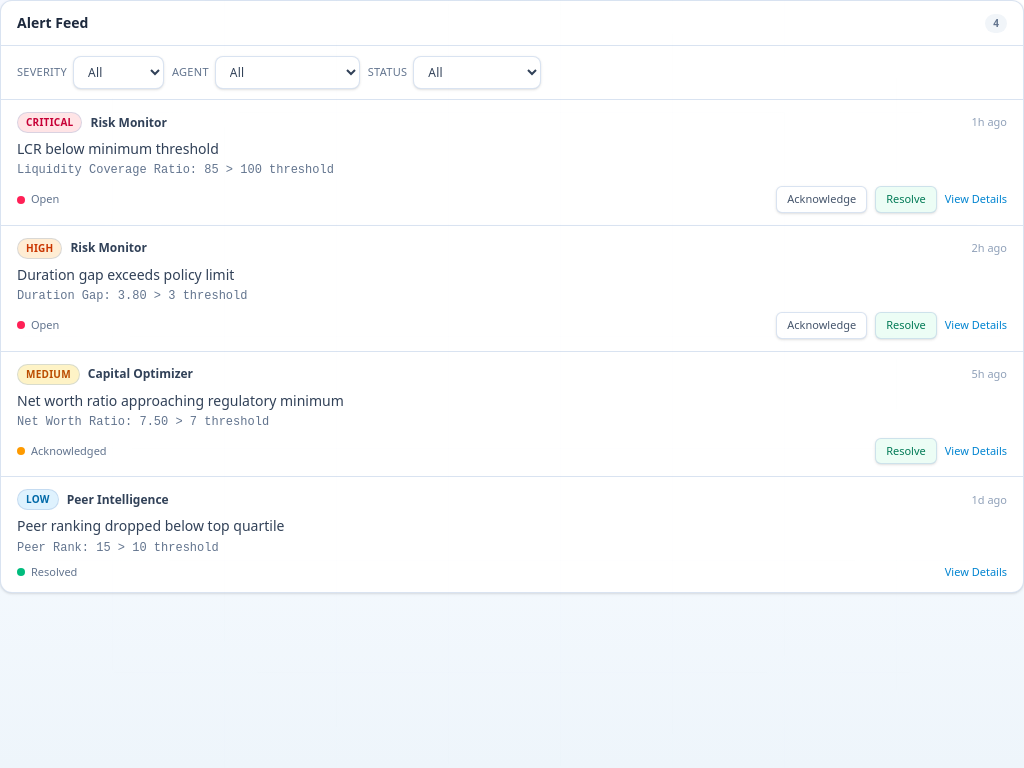
Test: AlertFeed › filters by severity
This screenshot has width=1024, height=768.
Expected: the number of elements with test id "alert-row" is 4, x1=1 y1=100 x2=1023 y2=226; x1=1 y1=226 x2=1023 y2=352; x1=1 y1=352 x2=1023 y2=477; x1=1 y1=477 x2=1023 y2=592
// Filter to CRITICAL only
Select "Critical" in the dropdown labelled "Severity" at (118, 72), box x1=73 y1=56 x2=164 y2=89
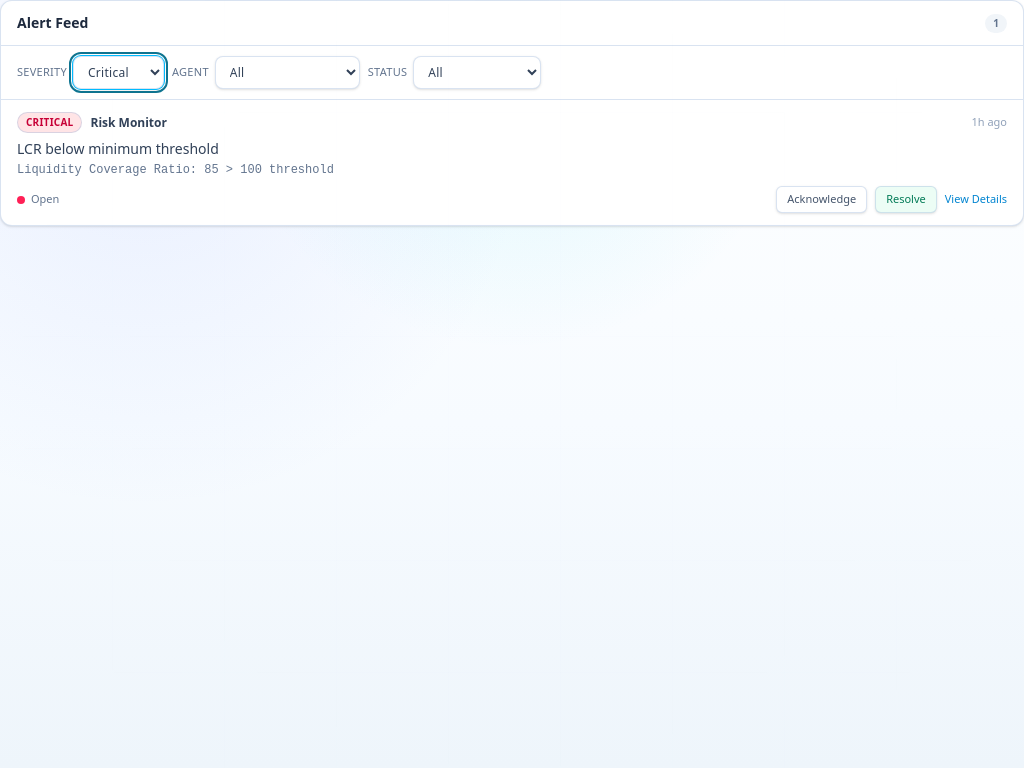
Expected: the text "Critical" is shown, x1=17 y1=112 x2=82 y2=133
Expected: the number of elements with test id "alert-row" is 1, x1=1 y1=100 x2=1023 y2=225
